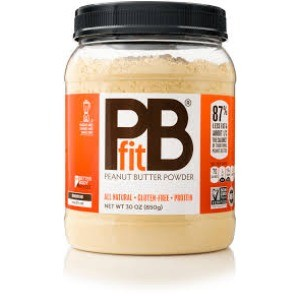peanut butter_brain food: (67, 84, 220, 189)
